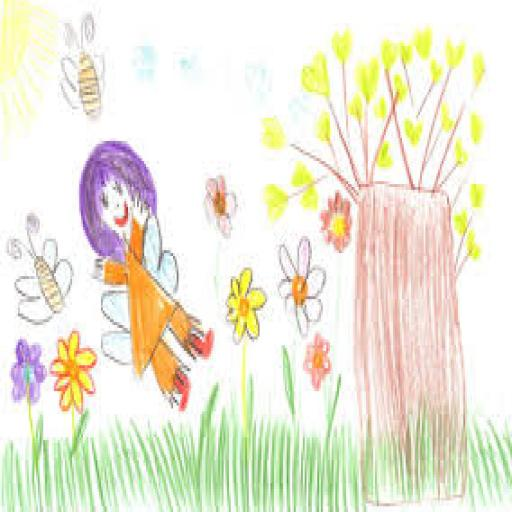person: (75, 126, 215, 428)
